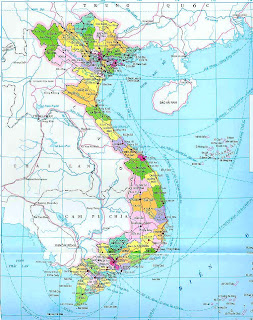Island: (205, 270, 253, 319), (191, 132, 240, 169)
